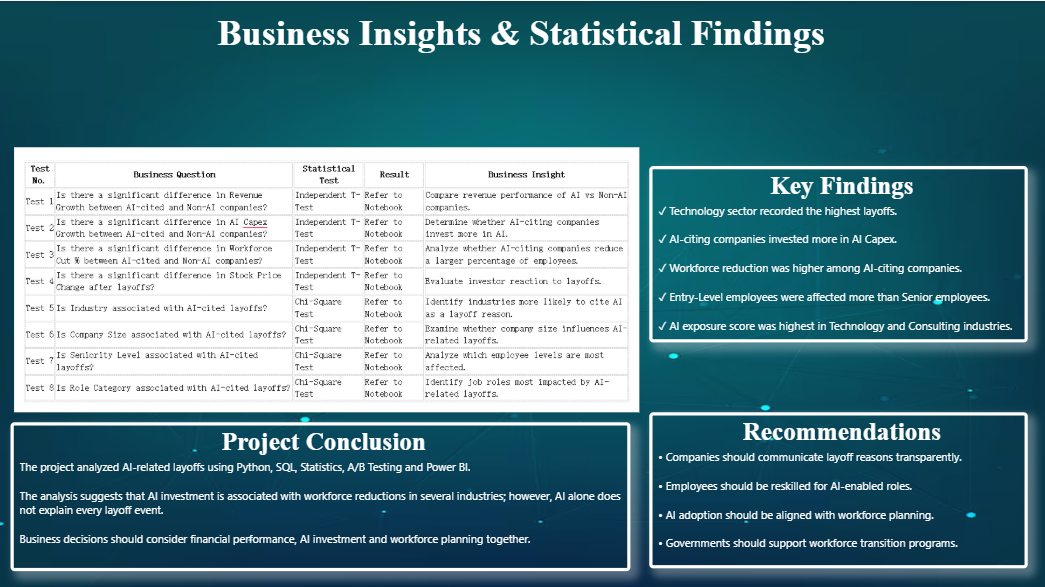

What the dashboard file says about the page in this screenshot:
{"tool":"powerbi","page":{"name":"Business Insights & Statistical Findings","canvas":[1280,720],"ordinal":4},"visuals":[{"type":"textbox","title":"Business Insights & Statistical Findings","box":[8.2,13.7,1261.1,98.8],"z":0},{"type":"textbox","title":"Key Findings","box":[794.1,201.2,461.8,214.9],"z":1000},{"type":"textbox","title":"Project Conclusion","box":[15.2,513.6,756,181.4],"z":1001},{"type":"textbox","title":"Recommendations","box":[794.1,501.5,461.8,190.5],"z":1002},{"type":"image","box":[7.6,178.3,786.5,323.1],"z":1004}]}

Visuals, with their boxes in screenshot pixels (x1, y1, x2, y2), scaled from the page's 1280x720 canvas onto the 1045x587 screenshot:
"Business Insights & Statistical Findings" textbox: l=7, t=11, r=1036, b=92
"Key Findings" textbox: l=648, t=164, r=1025, b=339
"Project Conclusion" textbox: l=12, t=419, r=630, b=567
"Recommendations" textbox: l=648, t=409, r=1025, b=564
image: l=6, t=145, r=648, b=409
